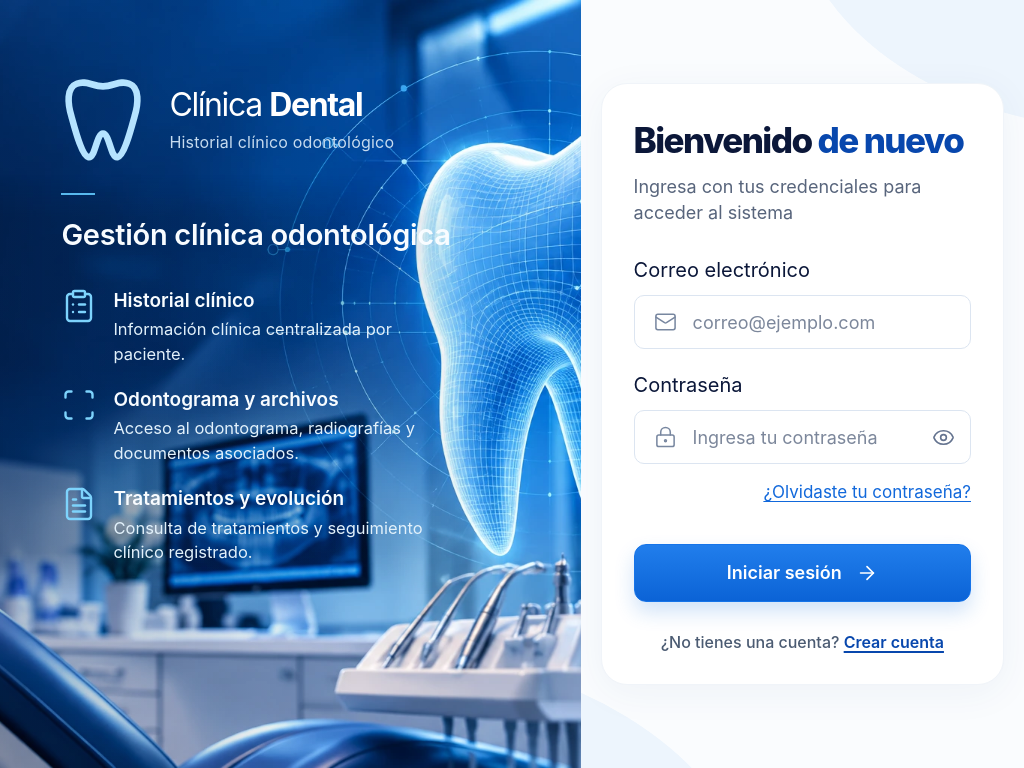
Test: AppRouter › clears the pending integration notice when login values change after submission
Step 1. Type "usuario@ejemplo.com" into the field labelled "Correo electrónico" → point(802, 322), box left=634, top=295, right=971, bottom=349
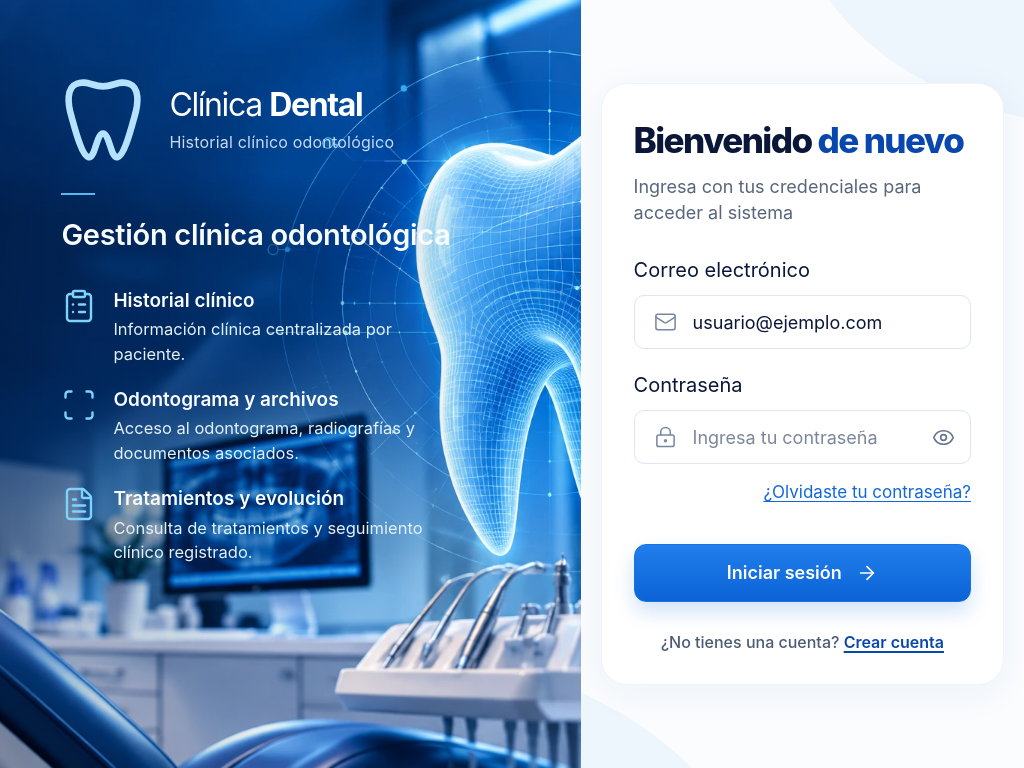
Step 2. Type "valid-password-123" into the password field labelled "Contraseña" → point(802, 437), box left=634, top=410, right=971, bottom=464
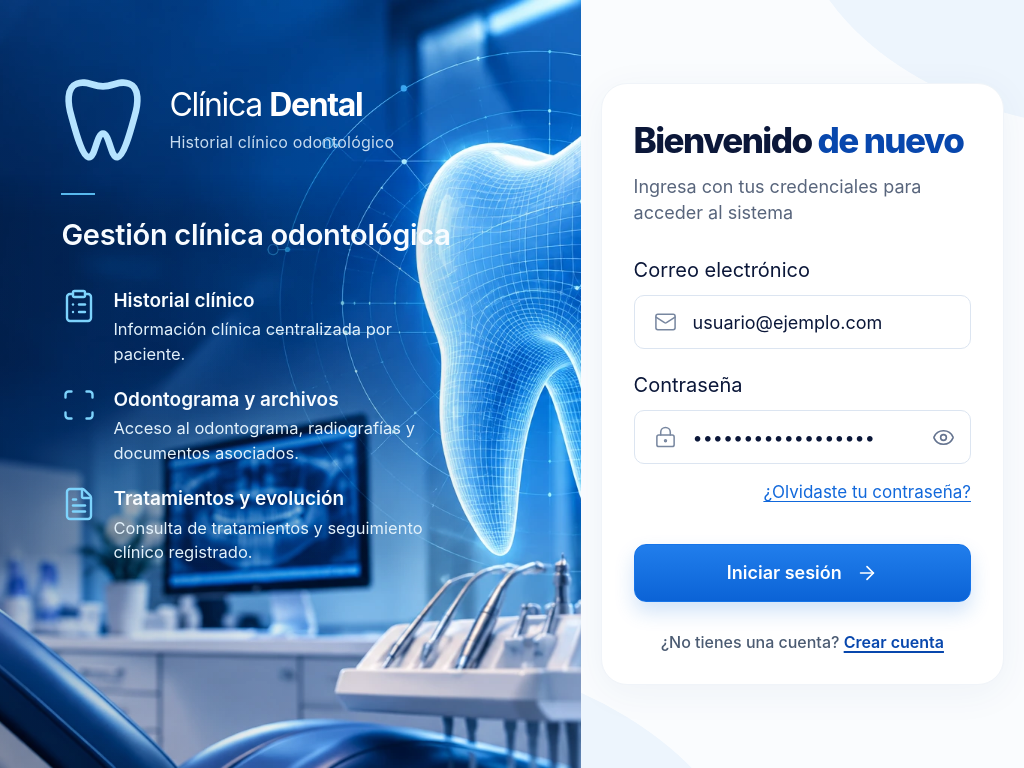
Step 3. Click the button "Iniciar sesión" → point(802, 573), box left=634, top=544, right=971, bottom=602
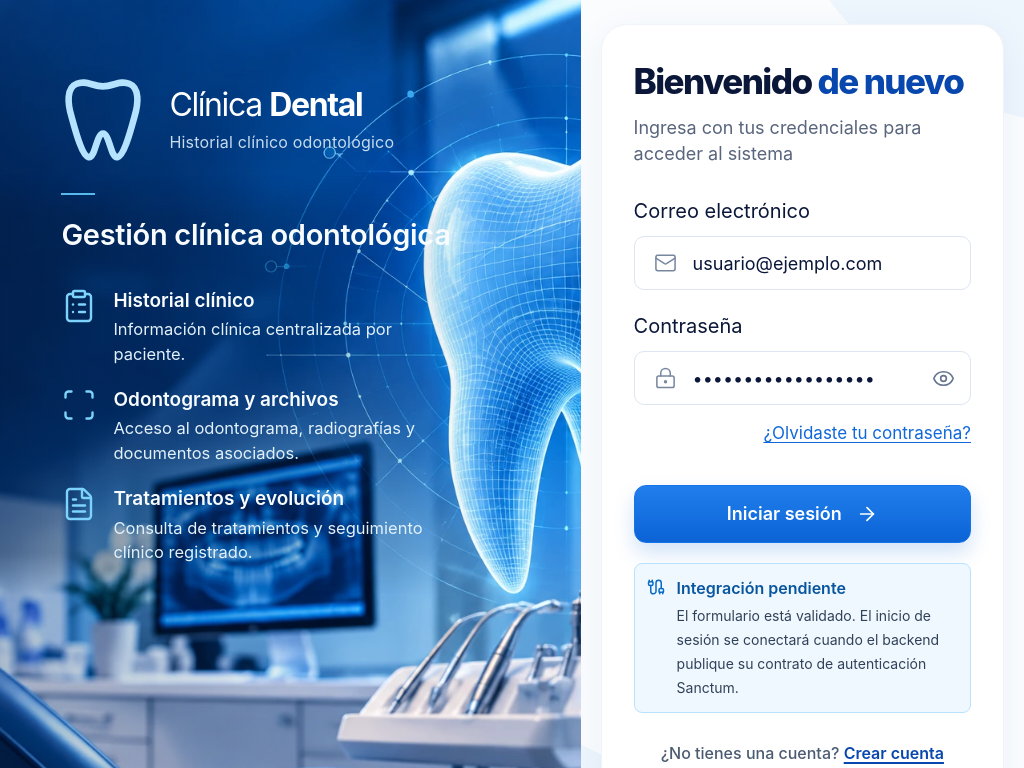
Check: the message shows "Integración pendiente", box left=677, top=578, right=846, bottom=598
Step 4. Replace the text in the field labelled "Correo electrónico" with "otro@ejemplo.com" → point(802, 263), box left=634, top=236, right=971, bottom=290
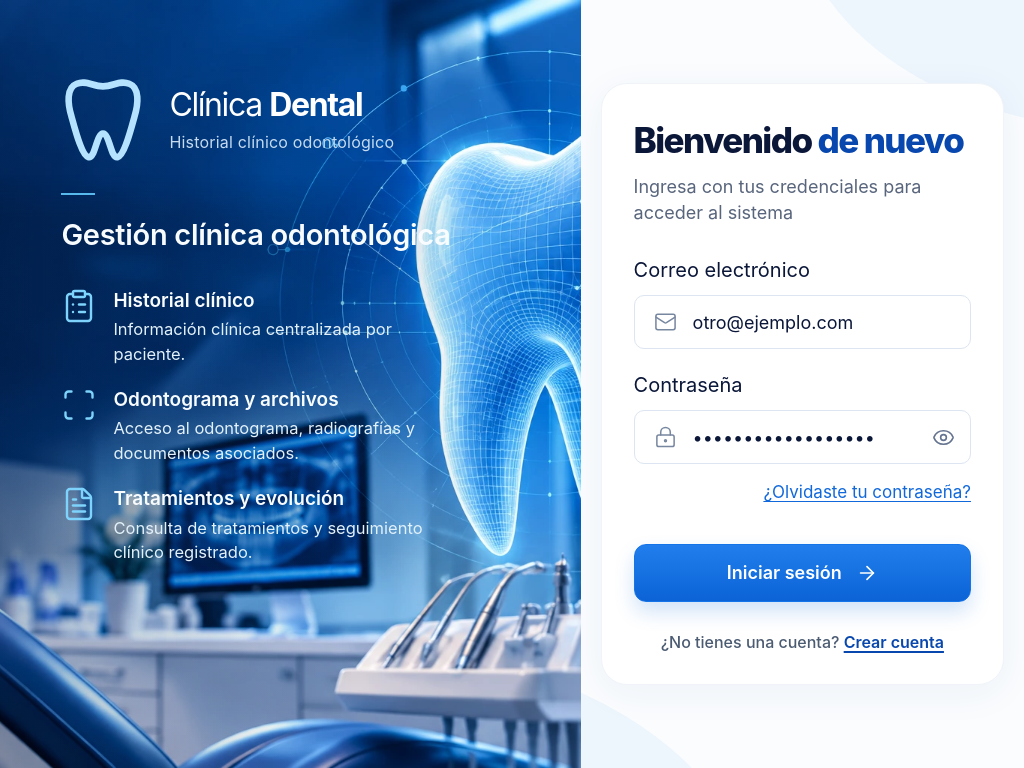
Check: the message is gone
